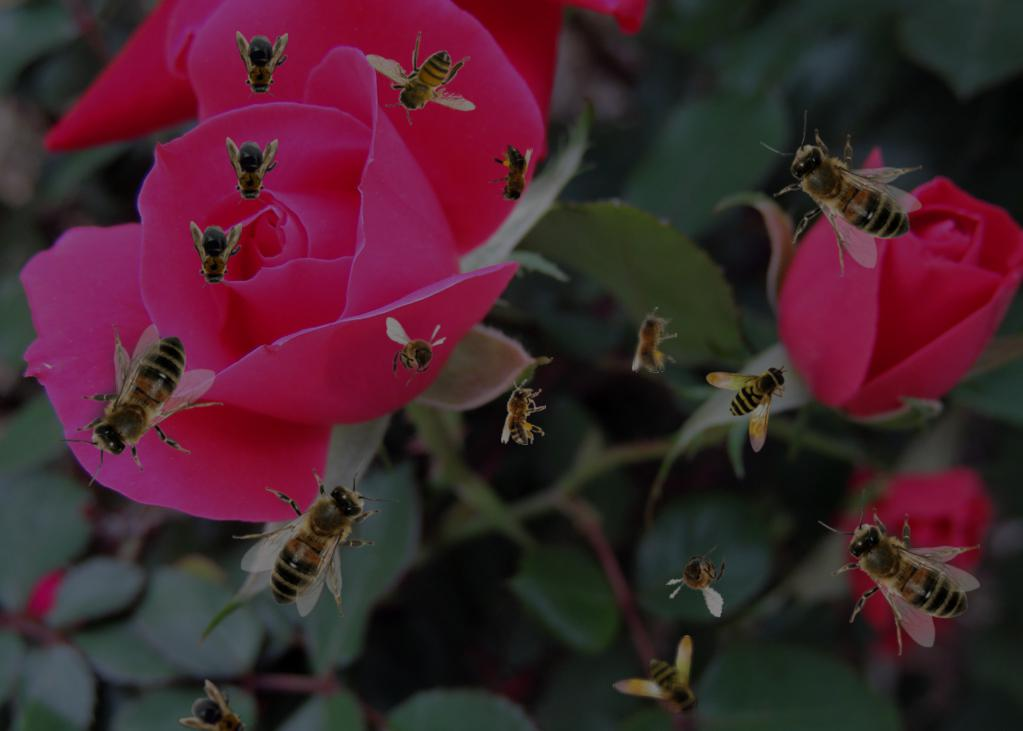Bee: (232, 455, 399, 617), (57, 324, 224, 486), (760, 110, 922, 277), (818, 489, 980, 656), (365, 31, 476, 125), (706, 365, 788, 453), (612, 635, 700, 717), (660, 536, 737, 618), (177, 677, 263, 731), (386, 317, 447, 387), (190, 221, 242, 289), (226, 137, 278, 205), (236, 31, 288, 99), (632, 307, 677, 373), (501, 379, 546, 445), (488, 145, 533, 211)
